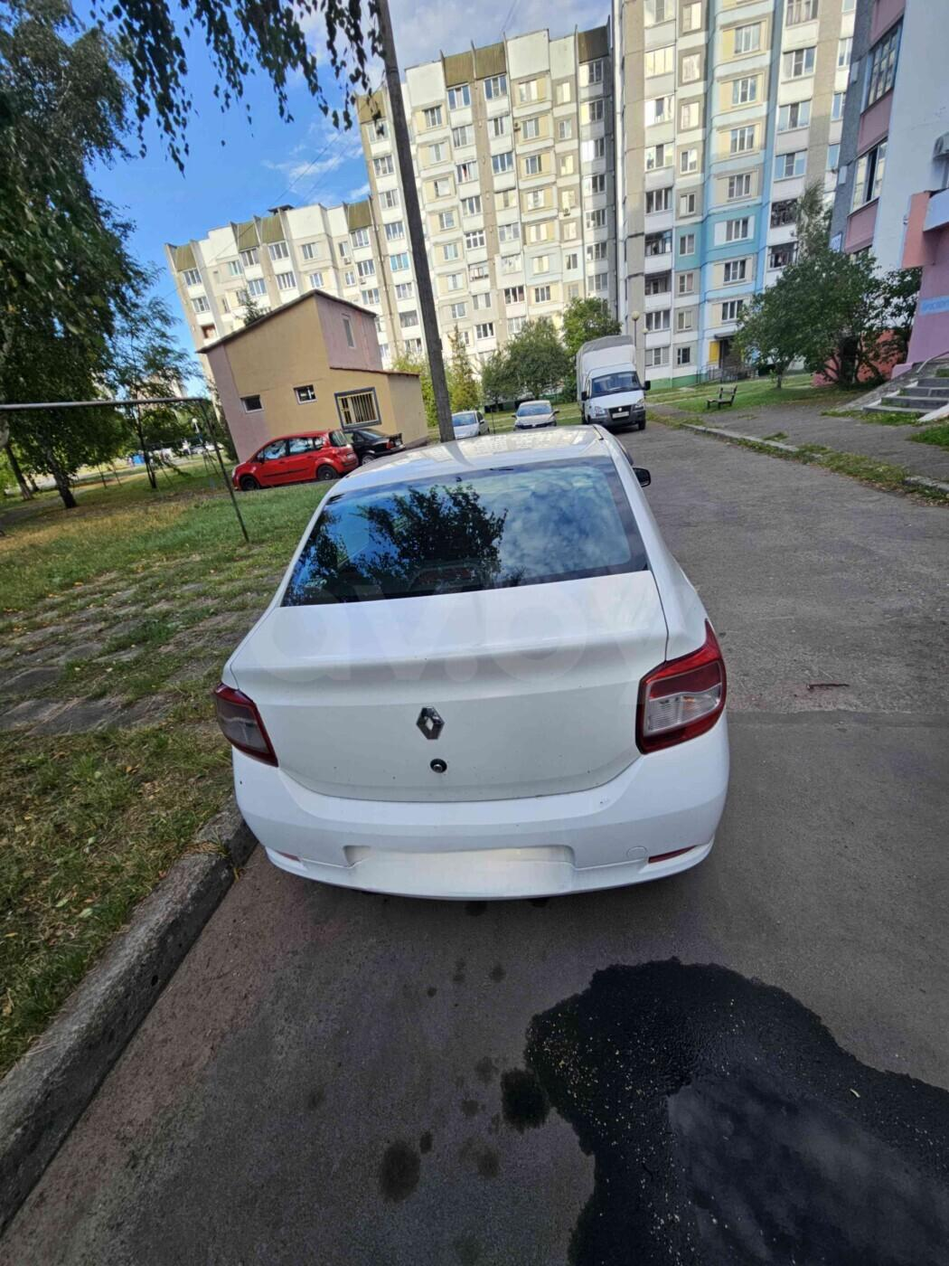Logan_2013-2018: (204, 430, 732, 913)
